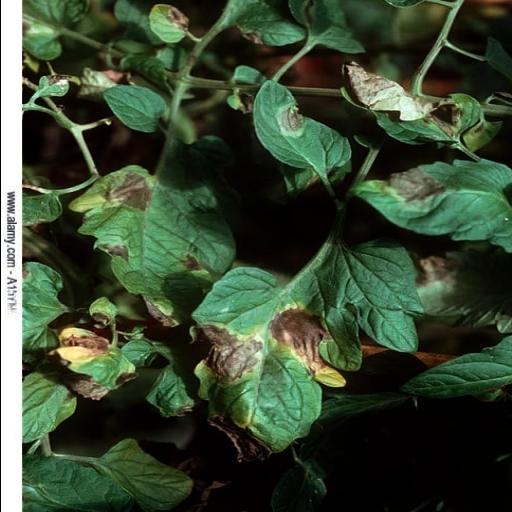disease_tomato: (186, 239, 426, 466), (68, 164, 237, 329), (347, 160, 512, 254), (339, 60, 485, 150), (250, 80, 354, 172), (46, 326, 158, 400), (145, 2, 193, 44)
